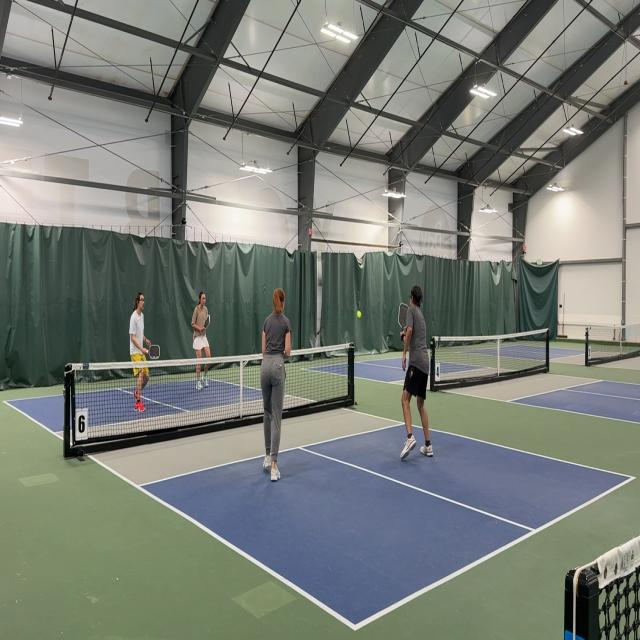ball: (356, 309, 362, 319)
